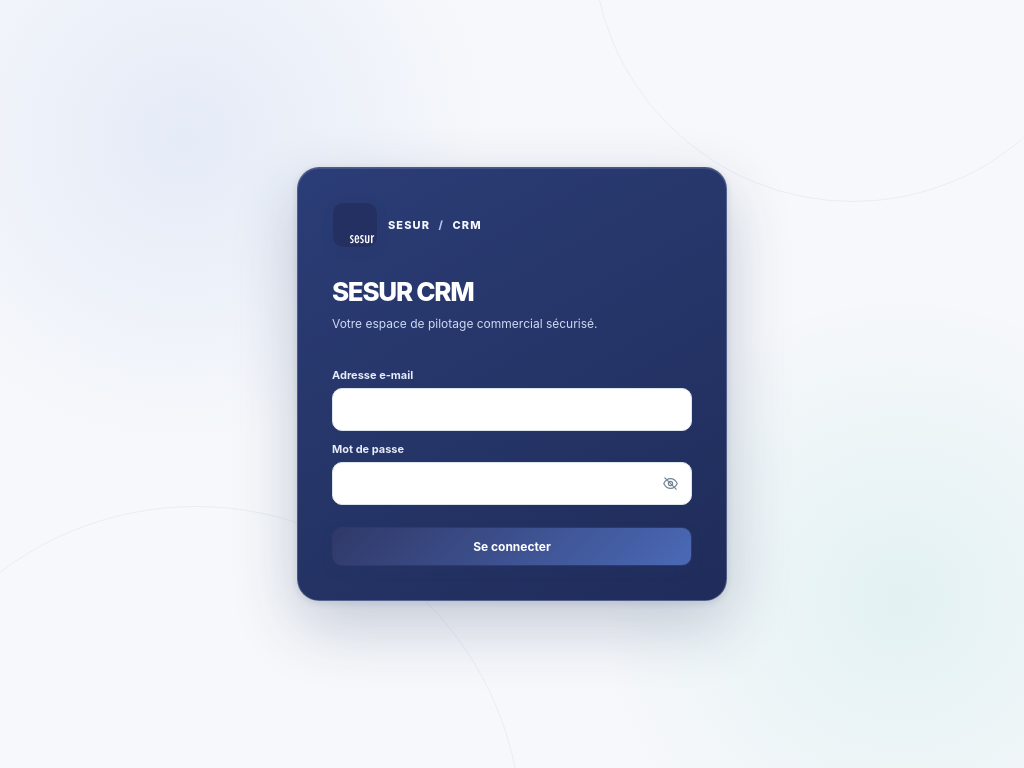
Connexion › signale un serveur injoignable
Type "awa.kone@sesur.bj" into the field labelled "Adresse e-mail" at (512, 410), box [332,388,692,431]
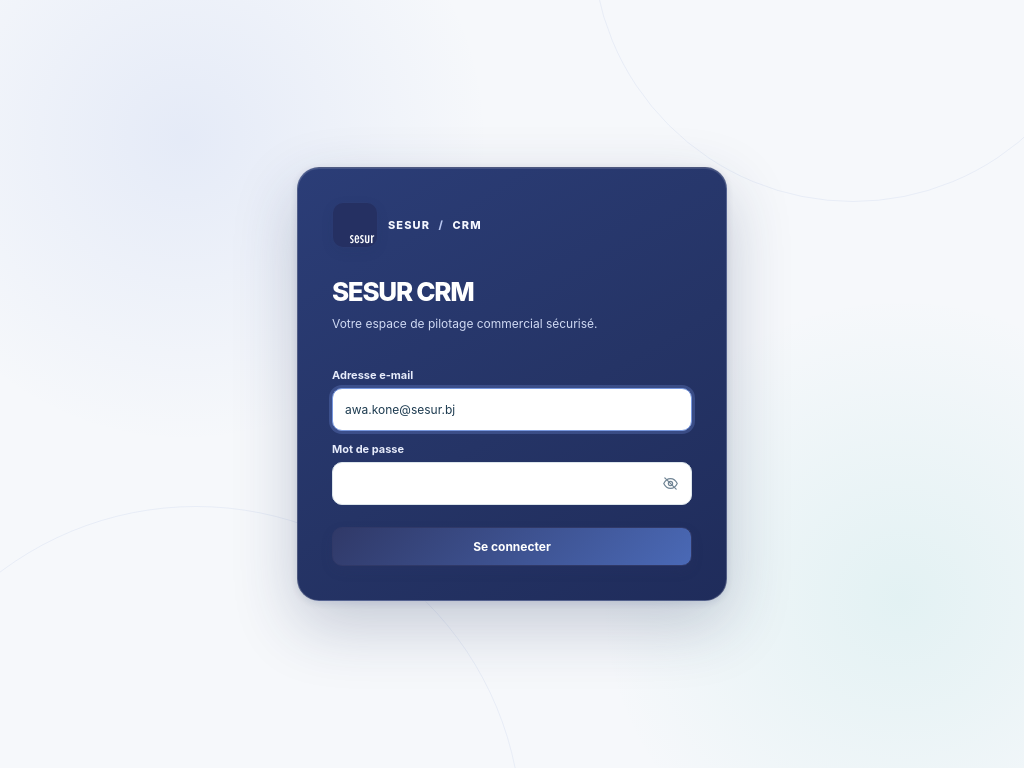
Type "une phrase de passe solide" into the password field labelled "Mot de passe" at (512, 484), box [332,462,692,505]
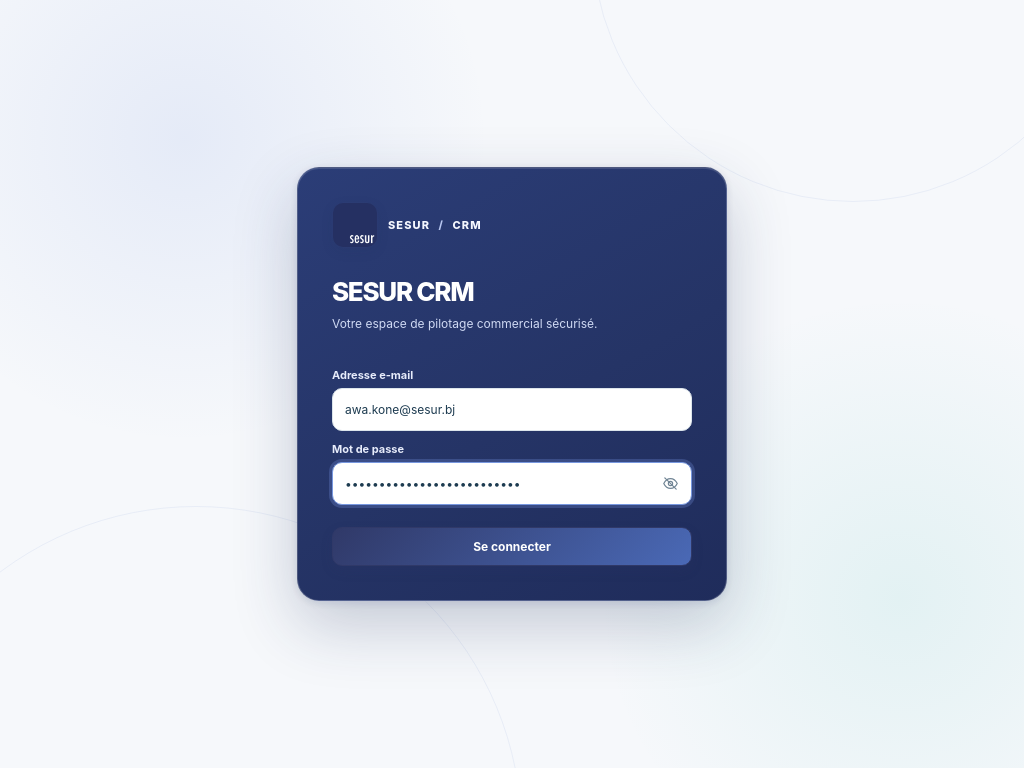
Click the button "Se connecter" at (512, 547), box [332,527,692,566]
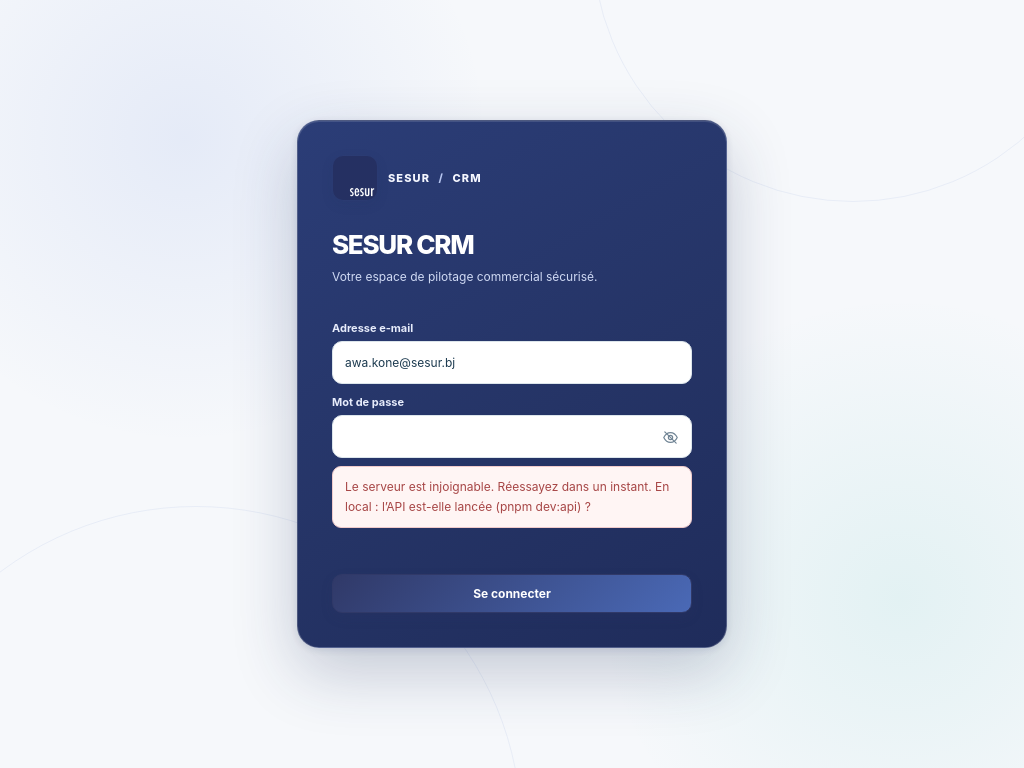
Result: the message shows "serveur est injoignable" at [345,479,669,514]
